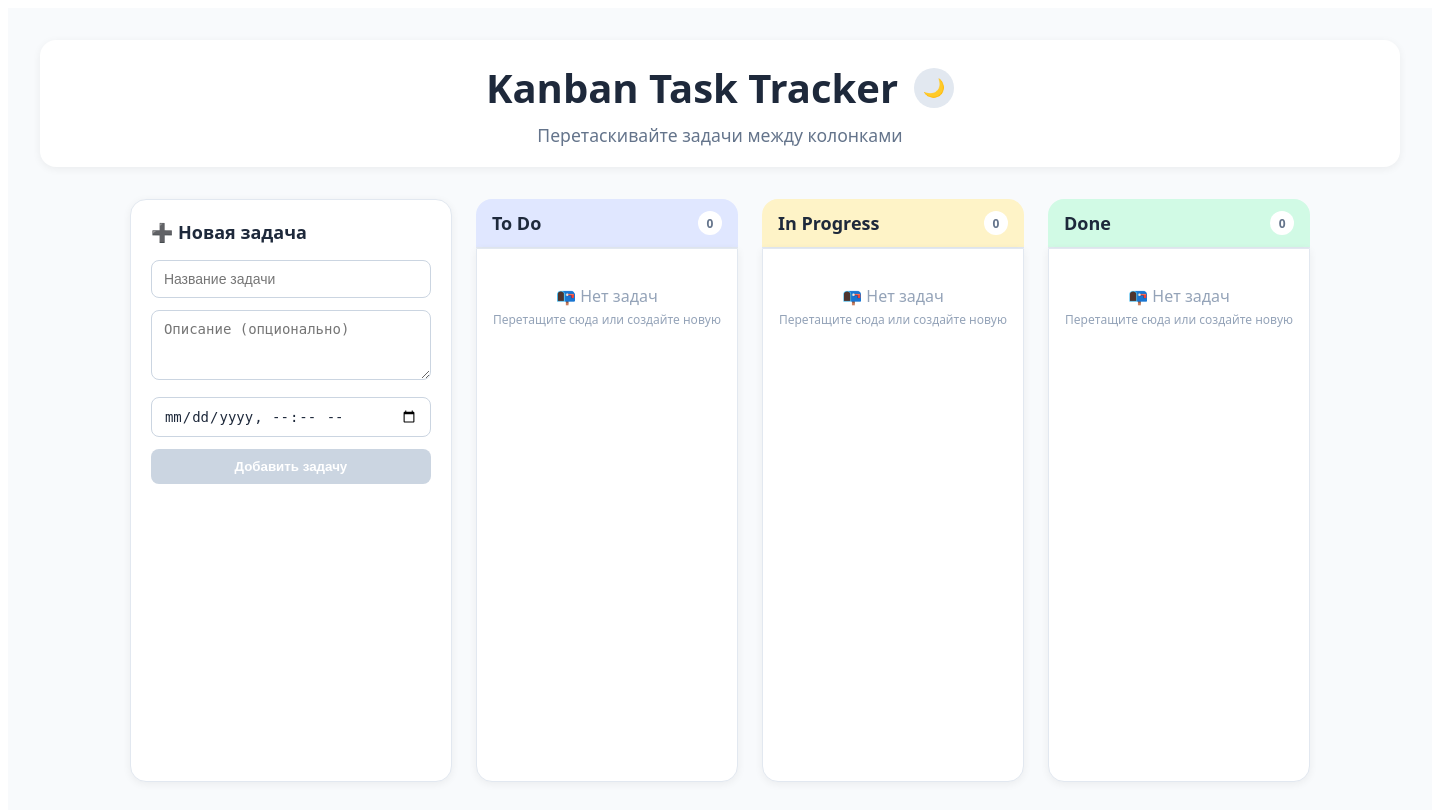
Test: KanbanBoard › enables add button when title is filled
The image size is (1440, 810).
Step 1. Type "New Task" into the field with test id "new-task-title-input" → (291, 279), box x1=151 y1=260 x2=431 y2=298
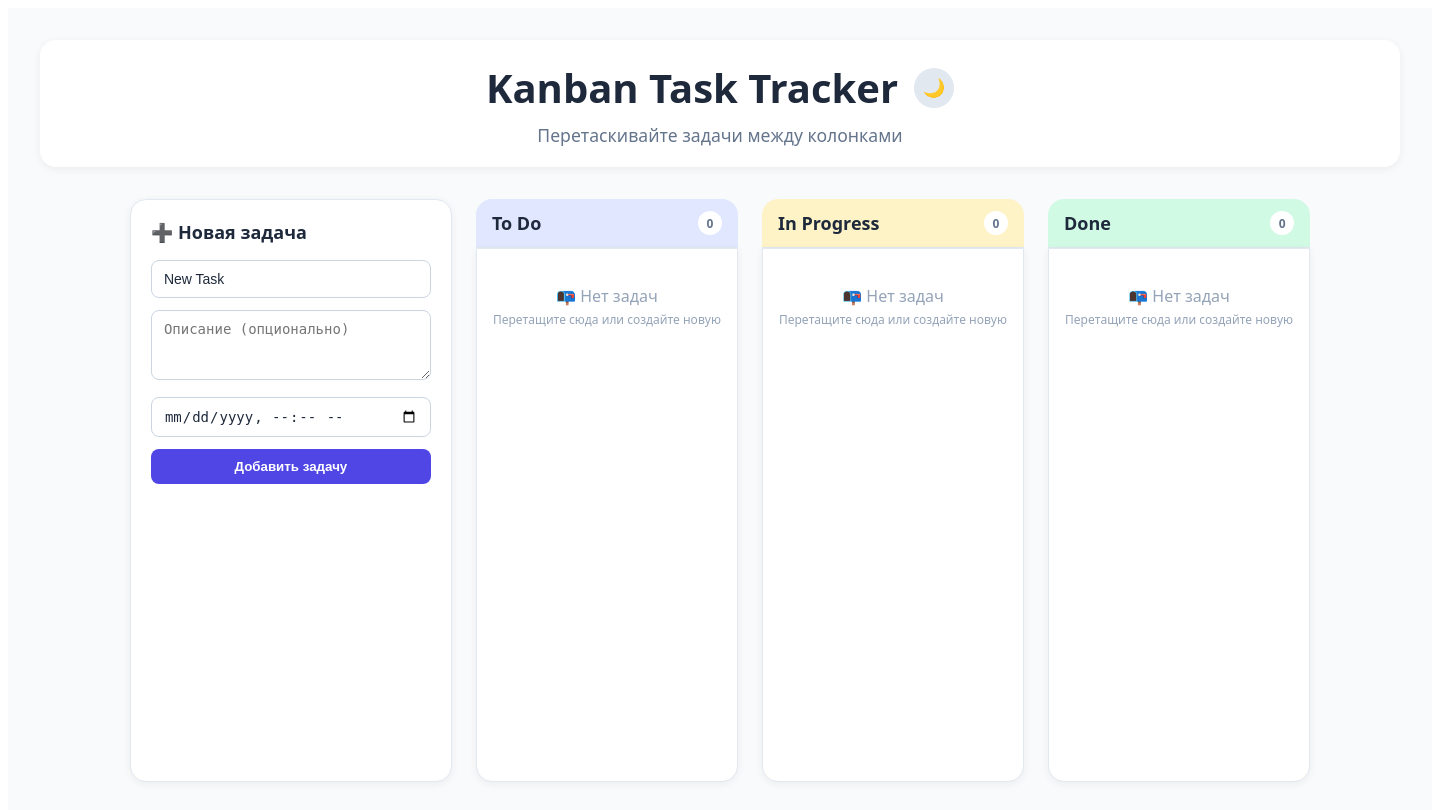
Check: the button with test id "add-task-button" is enabled, box x1=151 y1=449 x2=431 y2=484
